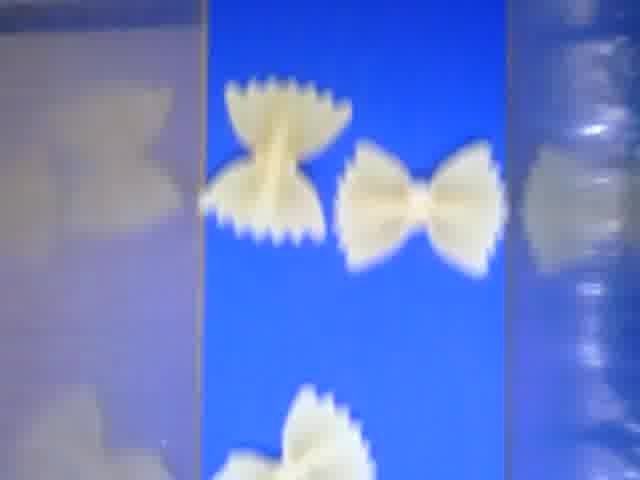farfalle: (200, 77, 353, 244), (336, 139, 506, 275), (208, 381, 378, 480)
